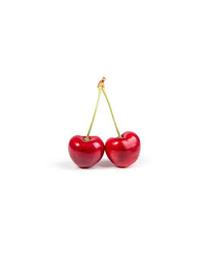cherry: (105, 131, 141, 168), (68, 135, 105, 169)
